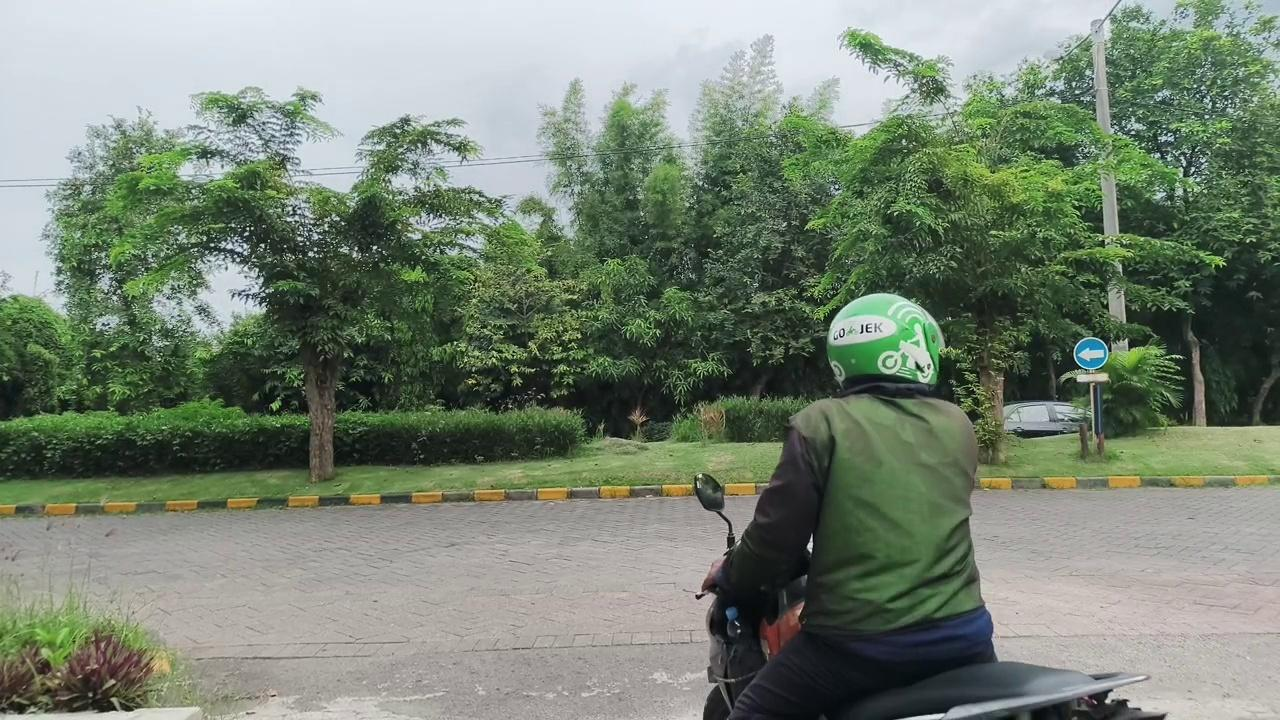Helmet: (704, 294, 994, 719)
Motor: (826, 661, 1165, 719)
